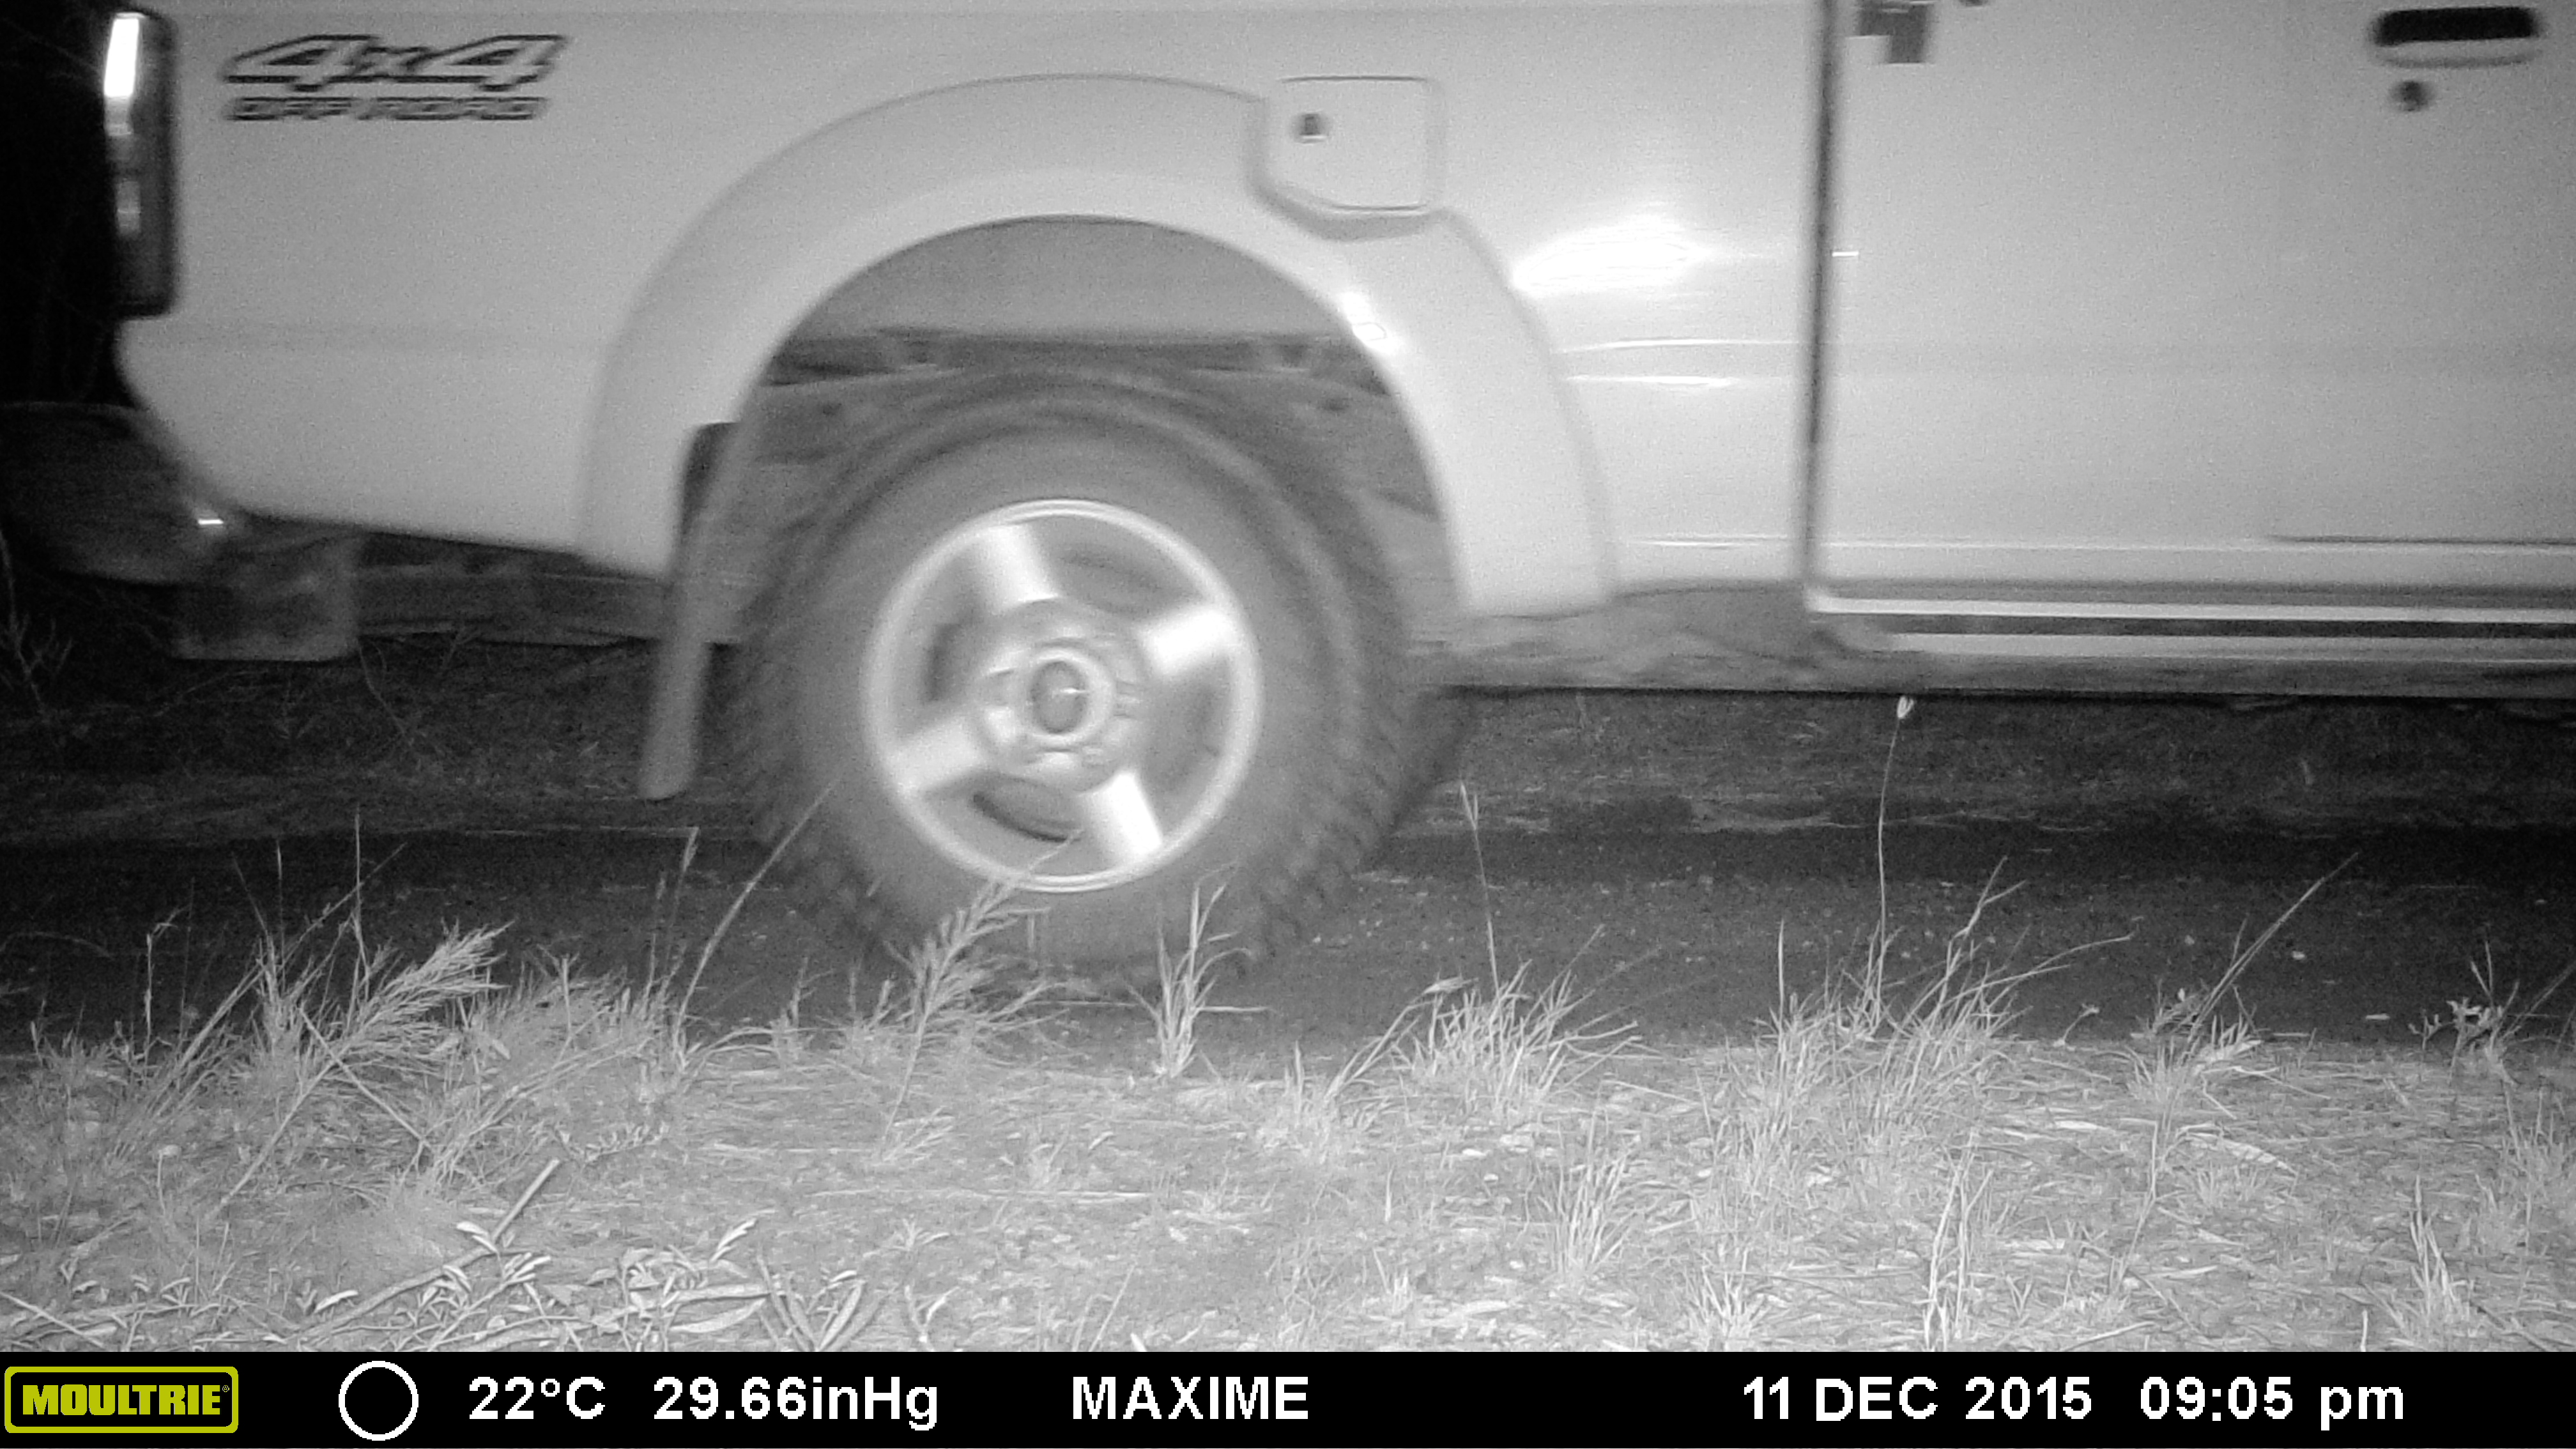Car: (2, 2, 2572, 1005)
